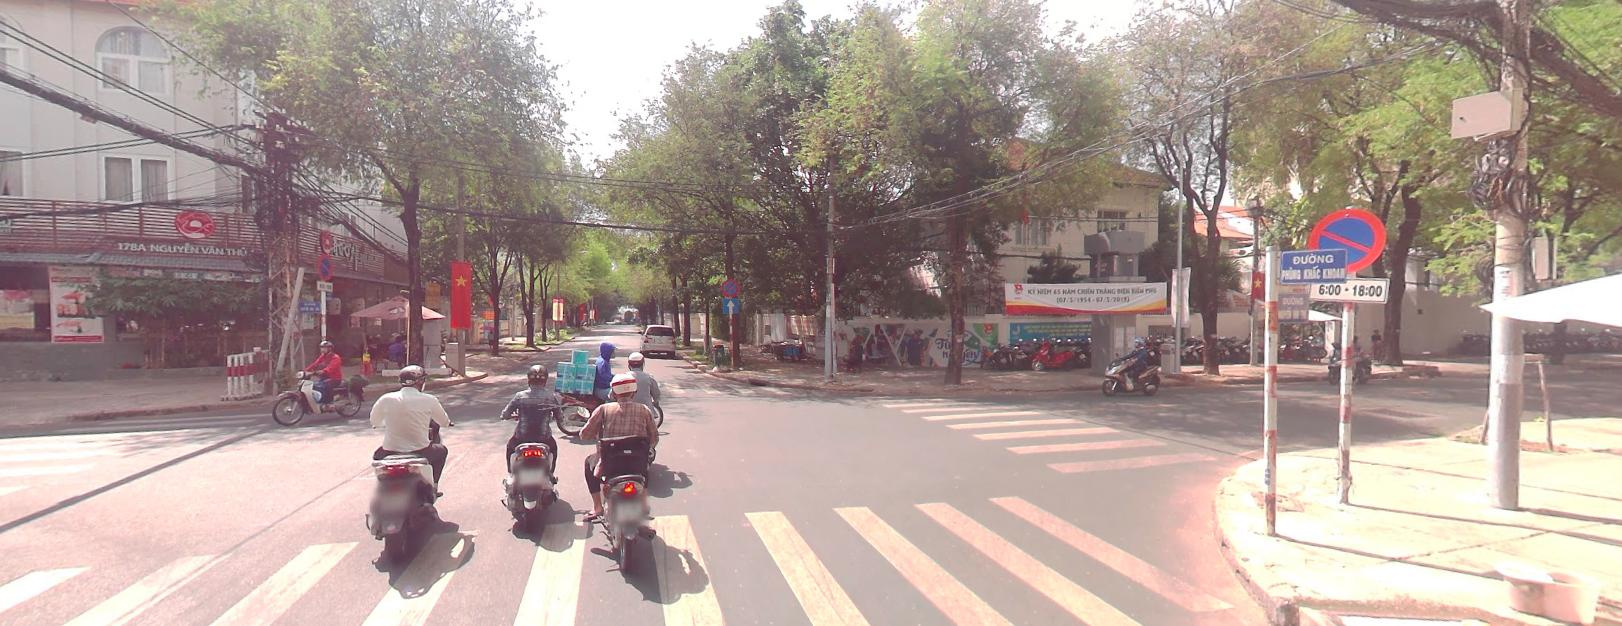Cam dung va do: (1309, 206, 1385, 273), (316, 254, 334, 280), (721, 277, 740, 296)
